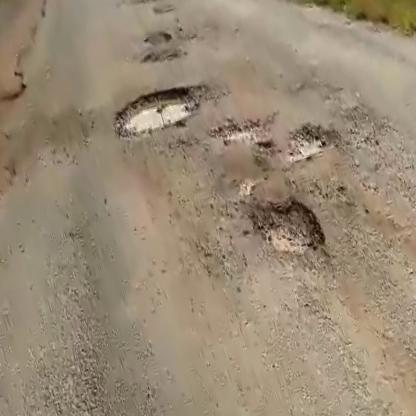pothole: (107, 74, 217, 148), (245, 184, 329, 264), (283, 112, 347, 163), (208, 110, 268, 157)
